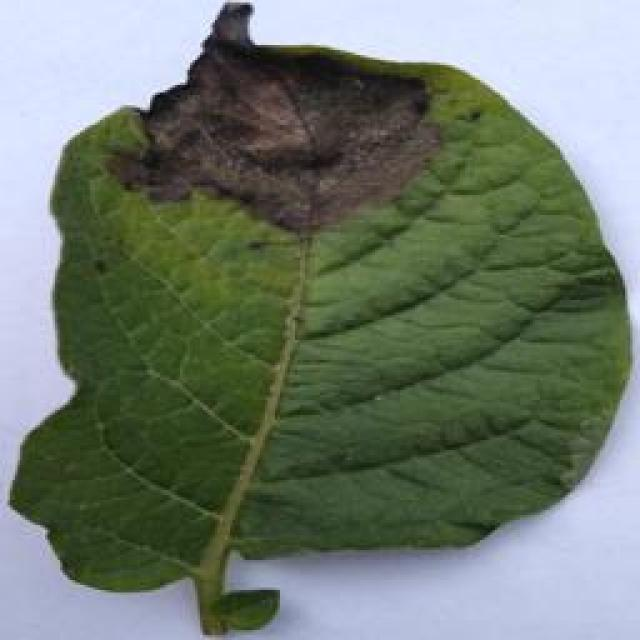Potato_Late_Blight: (4, 11, 631, 634)
